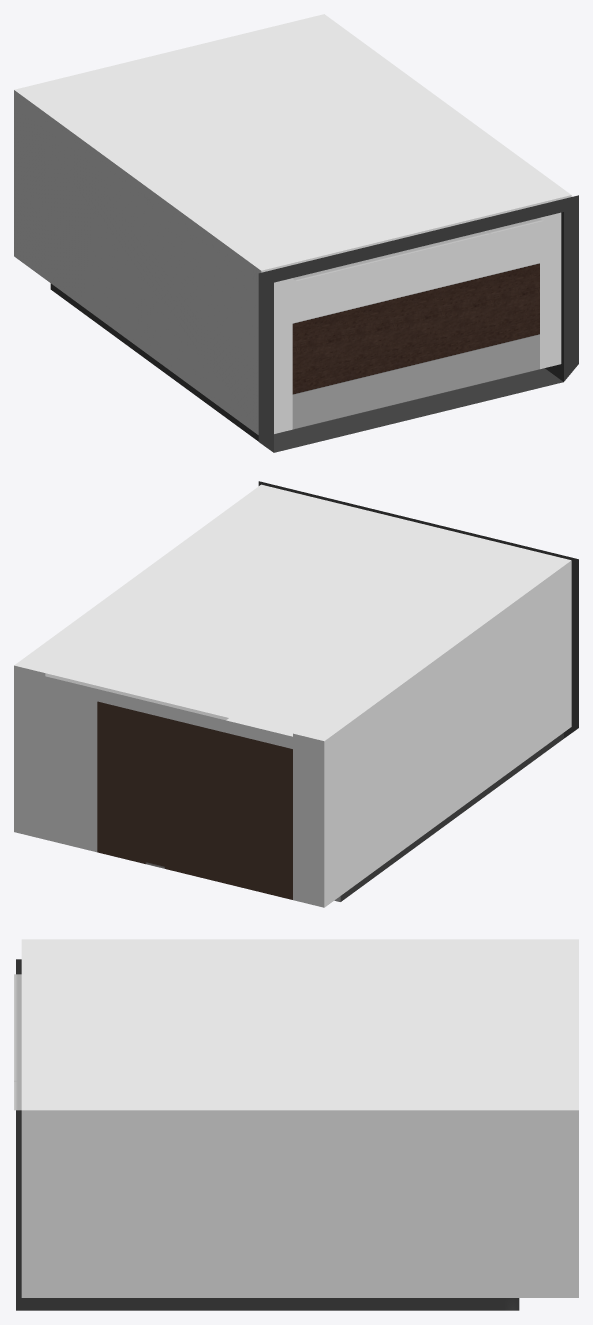
File: DifferencesSCenario.fbx
The picture shows the model from 3 angles, top to bottom: view 1: azimuth 30°, elevation 25°; view 2: azimuth 150°, elevation 25°; view 3: azimuth 270°, elevation 25°; orthographic projection. The views are drawn at different scales.
Parts seen in each view (by area): view 1: base_w_fl_frames.2, base_w_fl_frames.003; view 2: base_w_fl_frames.2; view 3: base_w_fl_frames.2.
Boxes of the visible parts, x1,y1,x2,y2 form: base_w_fl_frames.2: (14,14,578,452); base_w_fl_frames.003: (292,221,539,429); base_w_fl_frames.2: (14,481,578,907); base_w_fl_frames.2: (14,939,578,1310).
Bounding box in the file's own units: 1601 × 876 × 2171.
3 materials, 2 textured.
